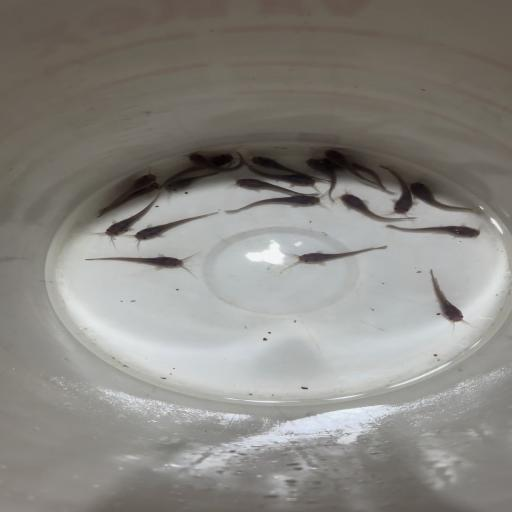lele: (418, 268, 478, 330), (90, 192, 165, 241), (273, 243, 389, 273), (82, 248, 200, 276), (128, 210, 222, 242), (333, 193, 415, 223), (374, 162, 420, 215), (317, 152, 386, 187), (409, 180, 480, 214), (383, 218, 483, 242), (226, 176, 321, 200), (220, 195, 322, 217), (237, 166, 317, 194), (99, 180, 161, 216), (326, 148, 378, 188), (249, 155, 331, 180), (164, 153, 232, 183), (106, 170, 157, 205), (301, 157, 344, 195), (178, 149, 246, 172), (161, 171, 226, 195)
